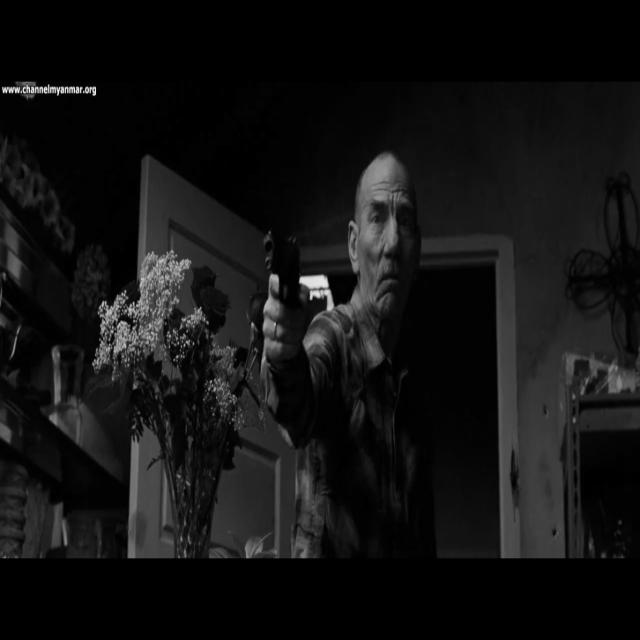gun: (263, 229, 300, 308)
